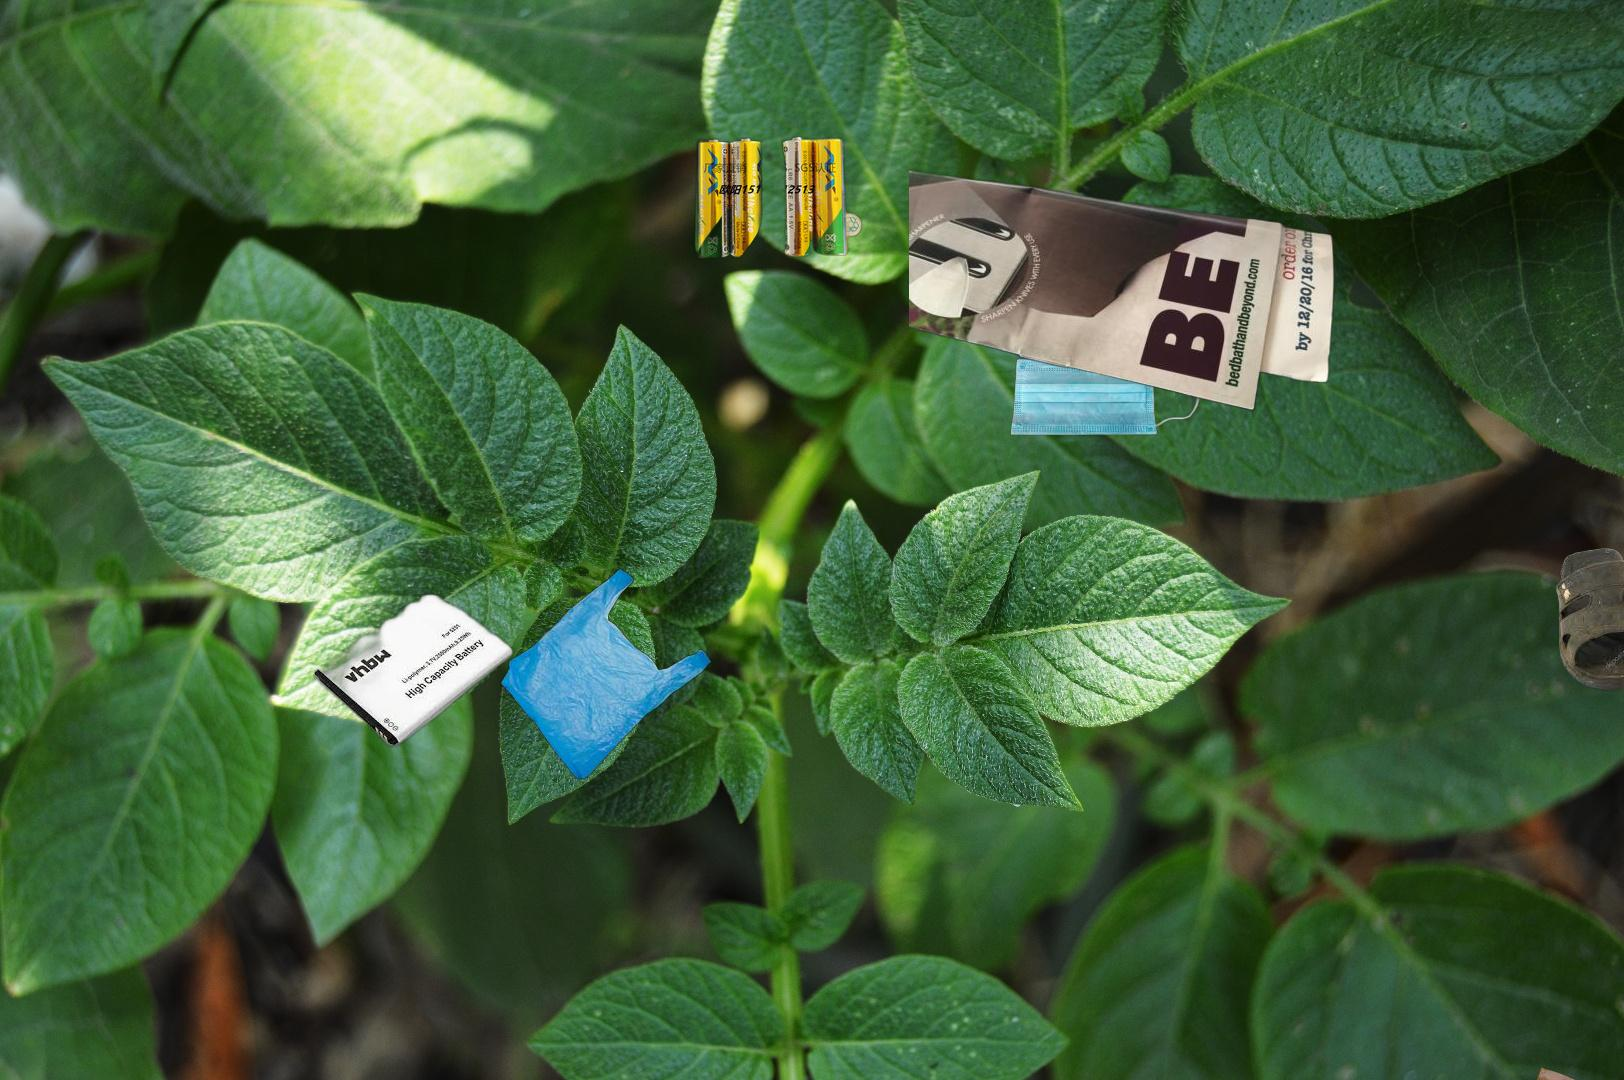battery: (269, 580, 517, 762), (664, 113, 871, 286)
paper: (910, 166, 1338, 413)
paper-bag: (1510, 1064, 1624, 1080)
plastic-bag: (500, 567, 714, 783)
shoes: (1553, 545, 1624, 693)
trash: (975, 356, 1200, 438)
